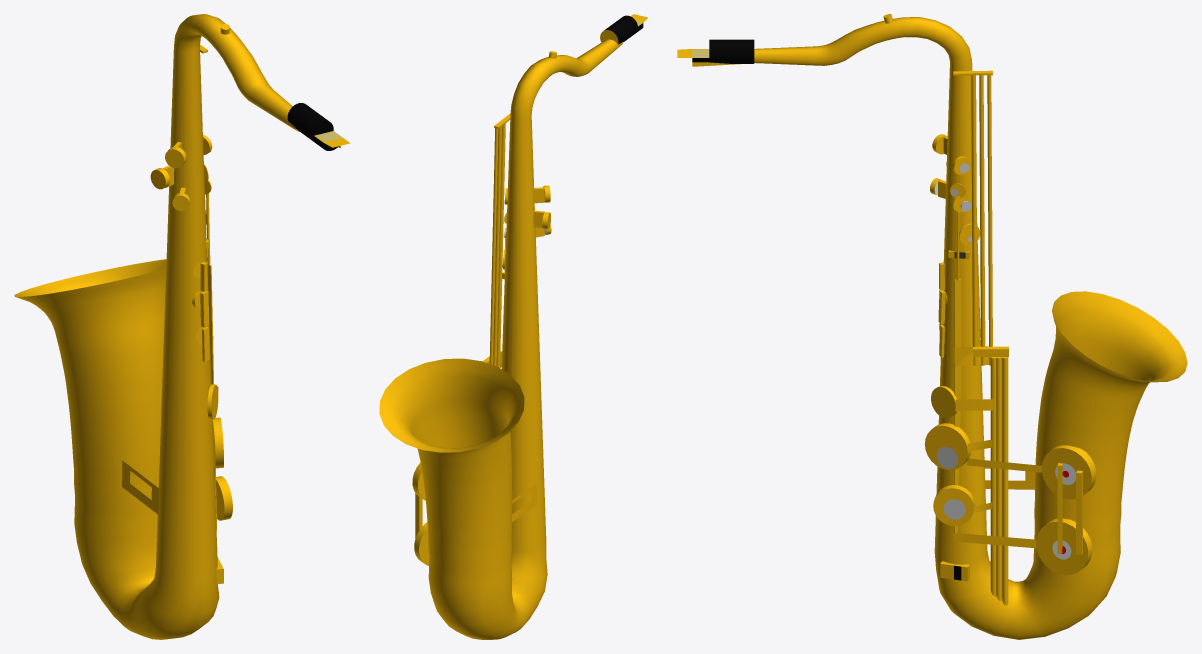
The model's file is sax.obj.
3 renders of one model, left to right at view 1: azimuth 30°, elevation 25°; view 2: azimuth 150°, elevation 25°; view 3: azimuth 270°, elevation 25°, orthographic. The views are drawn at different scales.
Parts seen in each view (by area): view 1: Mesh1 OD_0_0mm_ID_150_0mm Component_7_1 Component_8_1 Saxophone1, Mesh15 Component_7_1 Component_8_1 Saxophone1 Model, Mesh7 Component_7_1 Component_8_1 Saxophone1 Model, Mesh29 Component_7_1 Component_8_1 Saxophone1 Model, Mesh25 Component_7_1 Component_8_1 Saxophone1 Model, Mesh30 Component_7_1 Component_8_1 Saxophone1 Model; view 2: Mesh1 OD_0_0mm_ID_150_0mm Component_7_1 Component_8_1 Saxophone1, Mesh34 Component_8_1 Saxophone1 Model, Mesh36 Component_8_1 Saxophone1 Model, Mesh35 Component_8_1 Saxophone1 Model, Mesh15 Component_7_1 Component_8_1 Saxophone1 Model, Mesh16 Component_7_1 Component_8_1 Saxophone1 Model, Mesh7 Component_7_1 Component_8_1 Saxophone1 Model; view 3: Mesh1 OD_0_0mm_ID_150_0mm Component_7_1 Component_8_1 Saxophone1, Mesh40 Component_8_1 Saxophone1 Model, Mesh16 Component_7_1 Component_8_1 Saxophone1 Model, Mesh2 Component_7_1 Component_8_1 Saxophone1 Model, Mesh36 Component_8_1 Saxophone1 Model, Mesh30 Component_7_1 Component_8_1 Saxophone1 Model, Mesh38 Component_8_1 Saxophone1 Model, Mesh34 Component_8_1 Saxophone1 Model, Mesh15 Component_7_1 Component_8_1 Saxophone1 Model, Mesh35 Component_8_1 Saxophone1 Model, Mesh29 Component_7_1 Component_8_1 Saxophone1 Model, Mesh39 Component_8_1 Saxophone1 Model (+2 smaller).
Part boxes in pixels (<box>): Mesh1 OD_0_0mm_ID_150_0mm Component_7_1 Component_8_1 Saxophone1: <box>14,14,299,639</box>; Mesh15 Component_7_1 Component_8_1 Saxophone1 Model: <box>287,103,349,150</box>; Mesh7 Component_7_1 Component_8_1 Saxophone1 Model: <box>122,460,159,514</box>; Mesh29 Component_7_1 Component_8_1 Saxophone1 Model: <box>216,476,232,520</box>; Mesh25 Component_7_1 Component_8_1 Saxophone1 Model: <box>207,265,216,529</box>; Mesh30 Component_7_1 Component_8_1 Saxophone1 Model: <box>212,417,223,468</box>; Mesh1 OD_0_0mm_ID_150_0mm Component_7_1 Component_8_1 Saxophone1: <box>379,39,623,639</box>; Mesh34 Component_8_1 Saxophone1 Model: <box>496,123,505,367</box>; Mesh36 Component_8_1 Saxophone1 Model: <box>489,128,502,367</box>; Mesh35 Component_8_1 Saxophone1 Model: <box>493,126,502,366</box>; Mesh15 Component_7_1 Component_8_1 Saxophone1 Model: <box>600,14,647,44</box>; Mesh16 Component_7_1 Component_8_1 Saxophone1 Model: <box>414,522,429,565</box>; Mesh7 Component_7_1 Component_8_1 Saxophone1 Model: <box>512,482,537,521</box>; Mesh1 OD_0_0mm_ID_150_0mm Component_7_1 Component_8_1 Saxophone1: <box>754,17,1187,639</box>; Mesh40 Component_8_1 Saxophone1 Model: <box>955,357,996,596</box>; Mesh16 Component_7_1 Component_8_1 Saxophone1 Model: <box>1036,518,1092,575</box>; Mesh2 Component_7_1 Component_8_1 Saxophone1 Model: <box>1041,445,1096,499</box>; Mesh36 Component_8_1 Saxophone1 Model: <box>954,75,992,365</box>; Mesh30 Component_7_1 Component_8_1 Saxophone1 Model: <box>924,423,970,470</box>; Mesh38 Component_8_1 Saxophone1 Model: <box>1002,357,1008,605</box>; Mesh34 Component_8_1 Saxophone1 Model: <box>971,75,977,365</box>; Mesh15 Component_7_1 Component_8_1 Saxophone1 Model: <box>677,39,754,63</box>; Mesh35 Component_8_1 Saxophone1 Model: <box>979,75,985,365</box>; Mesh29 Component_7_1 Component_8_1 Saxophone1 Model: <box>933,485,975,526</box>; Mesh39 Component_8_1 Saxophone1 Model: <box>996,357,1001,601</box>.
Bounding box in the file's own units: 49.35 × 191 × 142.
